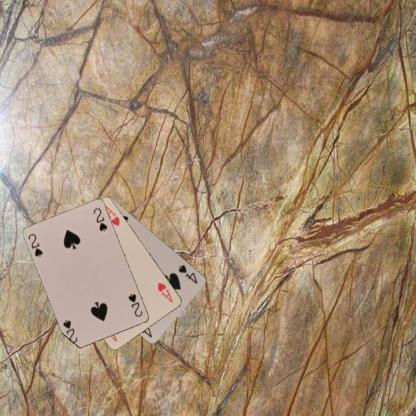2s: (126, 291, 144, 318), (26, 231, 44, 258)
4s: (176, 262, 198, 285)
Ah: (155, 280, 174, 303)
